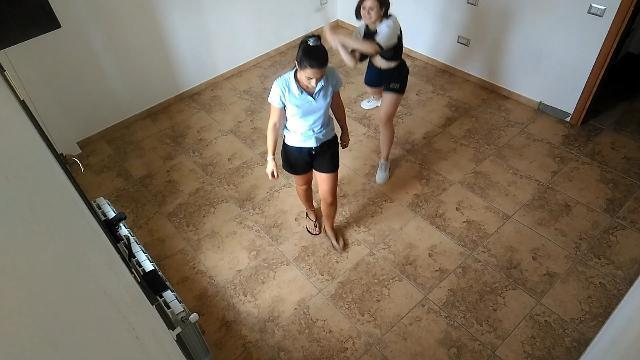violence: (266, 1, 406, 253)
